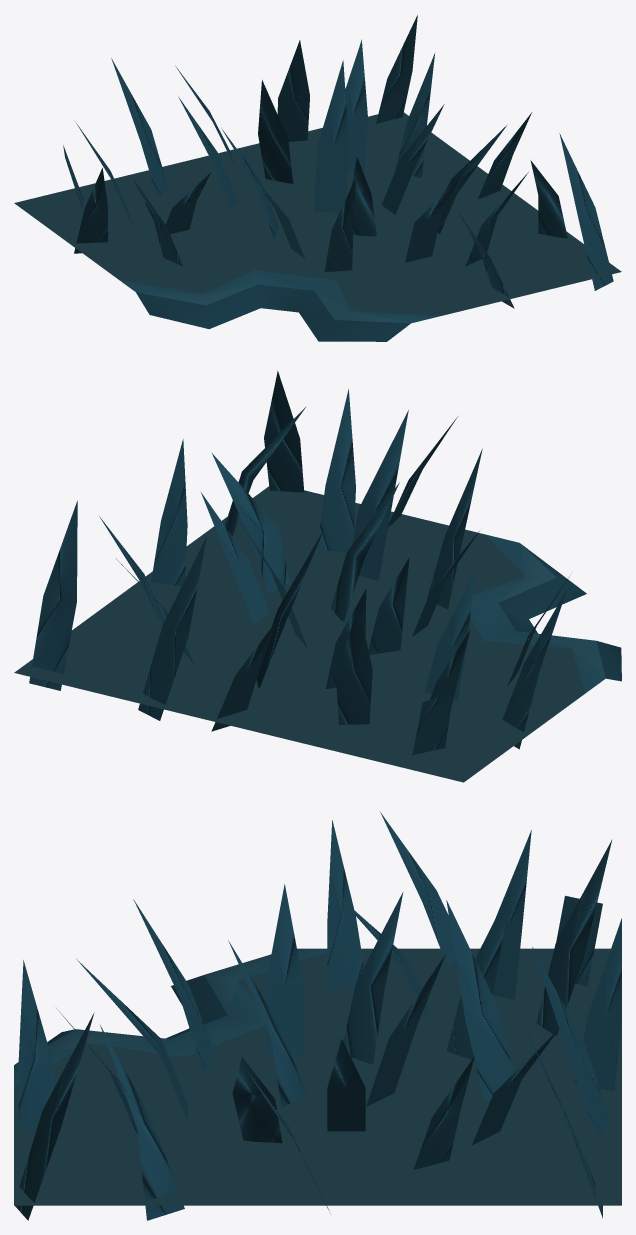
The picture shows the model from 3 angles, top to bottom: view 1: azimuth 30°, elevation 25°; view 2: azimuth 150°, elevation 25°; view 3: azimuth 270°, elevation 25°; orthographic projection. The views are drawn at different scales.
Parts seen in each view (by area): view 1: 32141; view 2: 32141; view 3: 32141.
Part boxes in pixels (x1,y1,x2,y2): 32141: (14, 15, 621, 341); 32141: (14, 370, 621, 782); 32141: (14, 812, 621, 1220).
Size of the model in its own units: 1.28 by 0.44 by 1.28.
